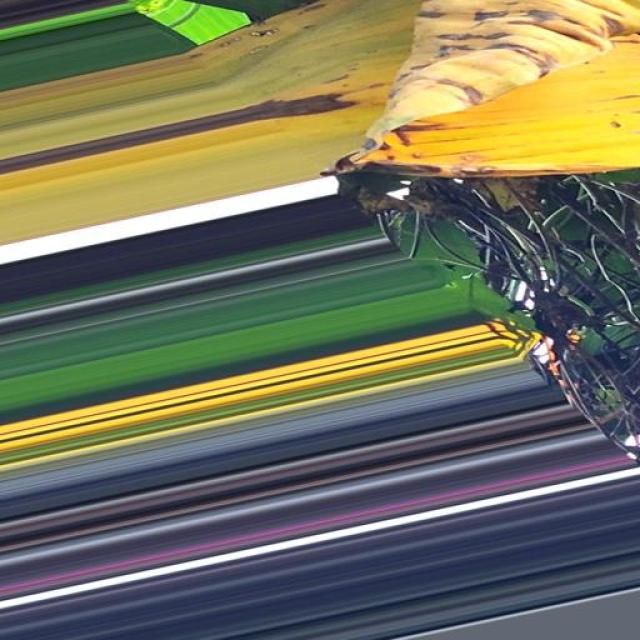Cordana: (321, 0, 640, 247)
